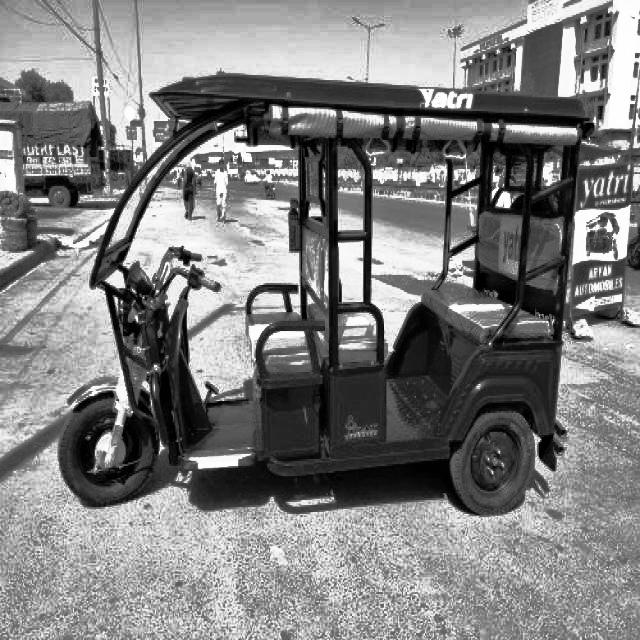Toto: (59, 74, 581, 534)
